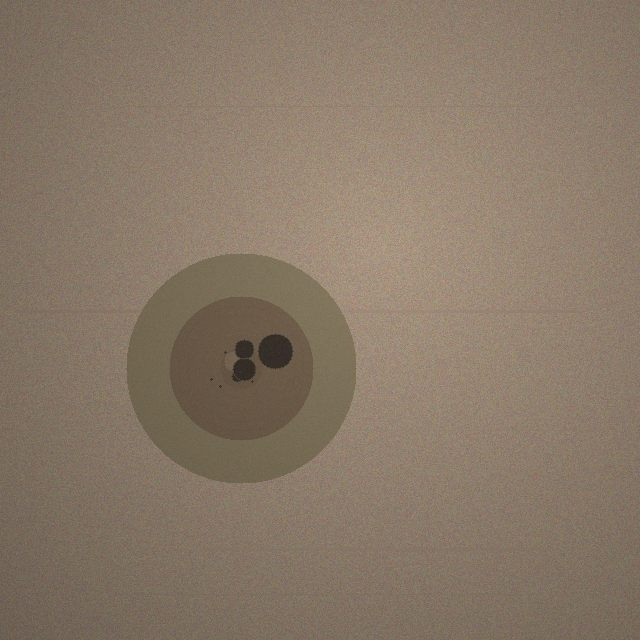shrinkage: (126, 253, 356, 483)
